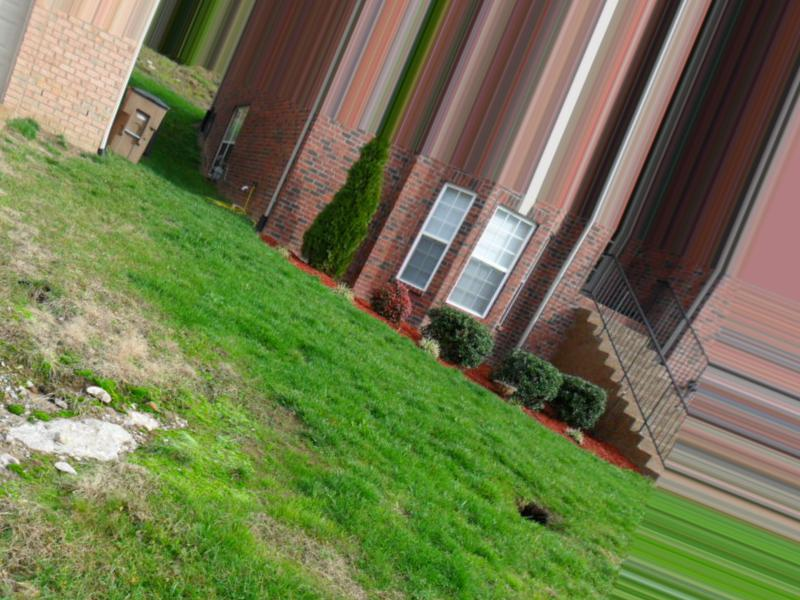patch: (62, 306, 155, 382), (258, 518, 341, 589), (223, 380, 296, 458), (63, 418, 125, 502), (8, 404, 50, 508), (94, 221, 138, 274), (14, 150, 49, 210)
